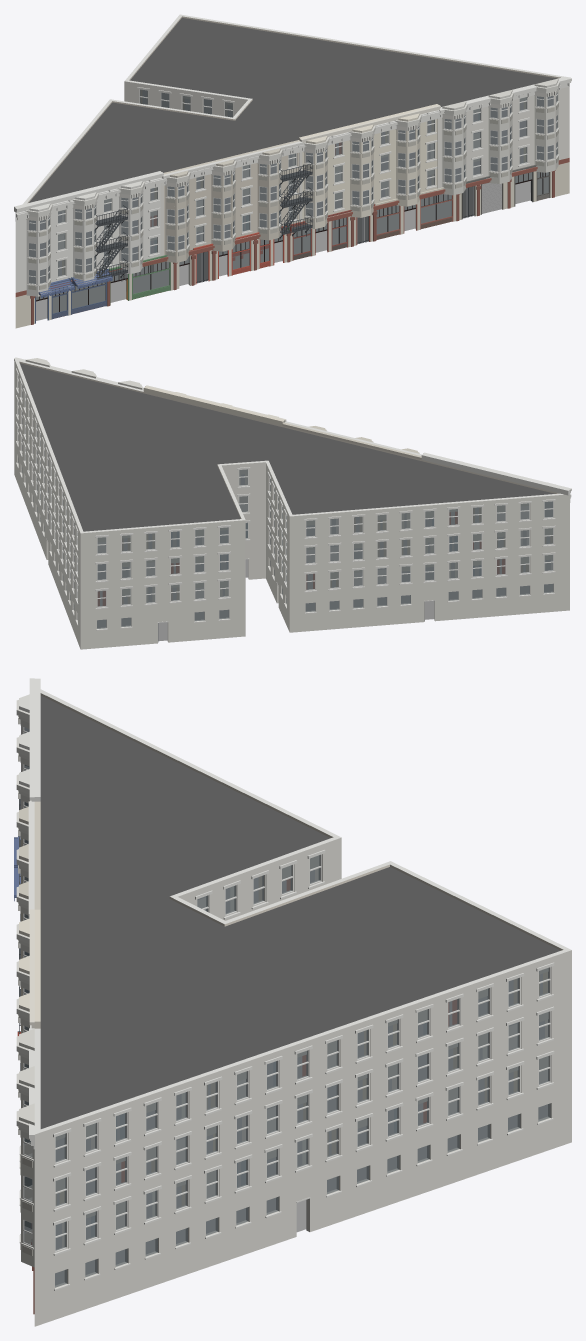
Rendered from exterior.glb.
3 views of the same model, one above another, from view 1: azimuth 30°, elevation 25°; view 2: azimuth 150°, elevation 25°; view 3: azimuth 270°, elevation 25° (orthographic). The views are drawn at different scales.
Visible parts, largest first — view 1: roof, shell, shadow-proxy, bay-windows, bay-glazing, glazing, bay-crowns, shop-sign-bands, trim, cornice-zones, storefront, frames (+8 smaller); view 2: shell, roof, glazing, frames, trim, shadow-proxy, parapet-zones, cornice-zones, bay-windows; view 3: roof, shell, glazing, frames, trim, shadow-proxy, bay-windows, bay-crowns, cornice-zones, parapet-zones, bay-glazing.
Boxes of the visible parts, bbox=[...] form: roof: bbox=[29, 18, 557, 202]; shell: bbox=[15, 14, 569, 328]; shadow-proxy: bbox=[29, 90, 552, 320]; bay-windows: bbox=[26, 78, 558, 296]; bay-glazing: bbox=[28, 91, 558, 284]; glazing: bbox=[36, 89, 548, 313]; bay-crowns: bbox=[25, 81, 560, 290]; shop-sign-bands: bbox=[35, 165, 550, 323]; trim: bbox=[15, 81, 571, 279]; cornice-zones: bbox=[15, 77, 571, 288]; storefront: bbox=[36, 172, 548, 317]; frames: bbox=[57, 89, 527, 277]; shell: bbox=[14, 358, 569, 649]; roof: bbox=[19, 363, 554, 531]; glazing: bbox=[18, 376, 553, 628]; frames: bbox=[17, 374, 553, 607]; trim: bbox=[16, 368, 571, 630]; shadow-proxy: bbox=[97, 474, 552, 641]; parapet-zones: bbox=[143, 386, 569, 495]; cornice-zones: bbox=[14, 357, 571, 493]; bay-windows: bbox=[25, 358, 555, 484]; roof: bbox=[40, 695, 560, 1128]; shell: bbox=[34, 689, 571, 1326]; glazing: bbox=[55, 855, 550, 1287]; frames: bbox=[55, 854, 551, 1252]; trim: bbox=[30, 800, 554, 1290]; shadow-proxy: bbox=[55, 870, 547, 1285]; bay-windows: bbox=[19, 694, 34, 1267]; bay-crowns: bbox=[16, 700, 33, 1255]; cornice-zones: bbox=[28, 678, 34, 1244]; parapet-zones: bbox=[34, 678, 40, 1028]; bay-glazing: bbox=[23, 726, 32, 1246].
Size of the model in its own units: 62.21 by 12.92 by 32.67.
